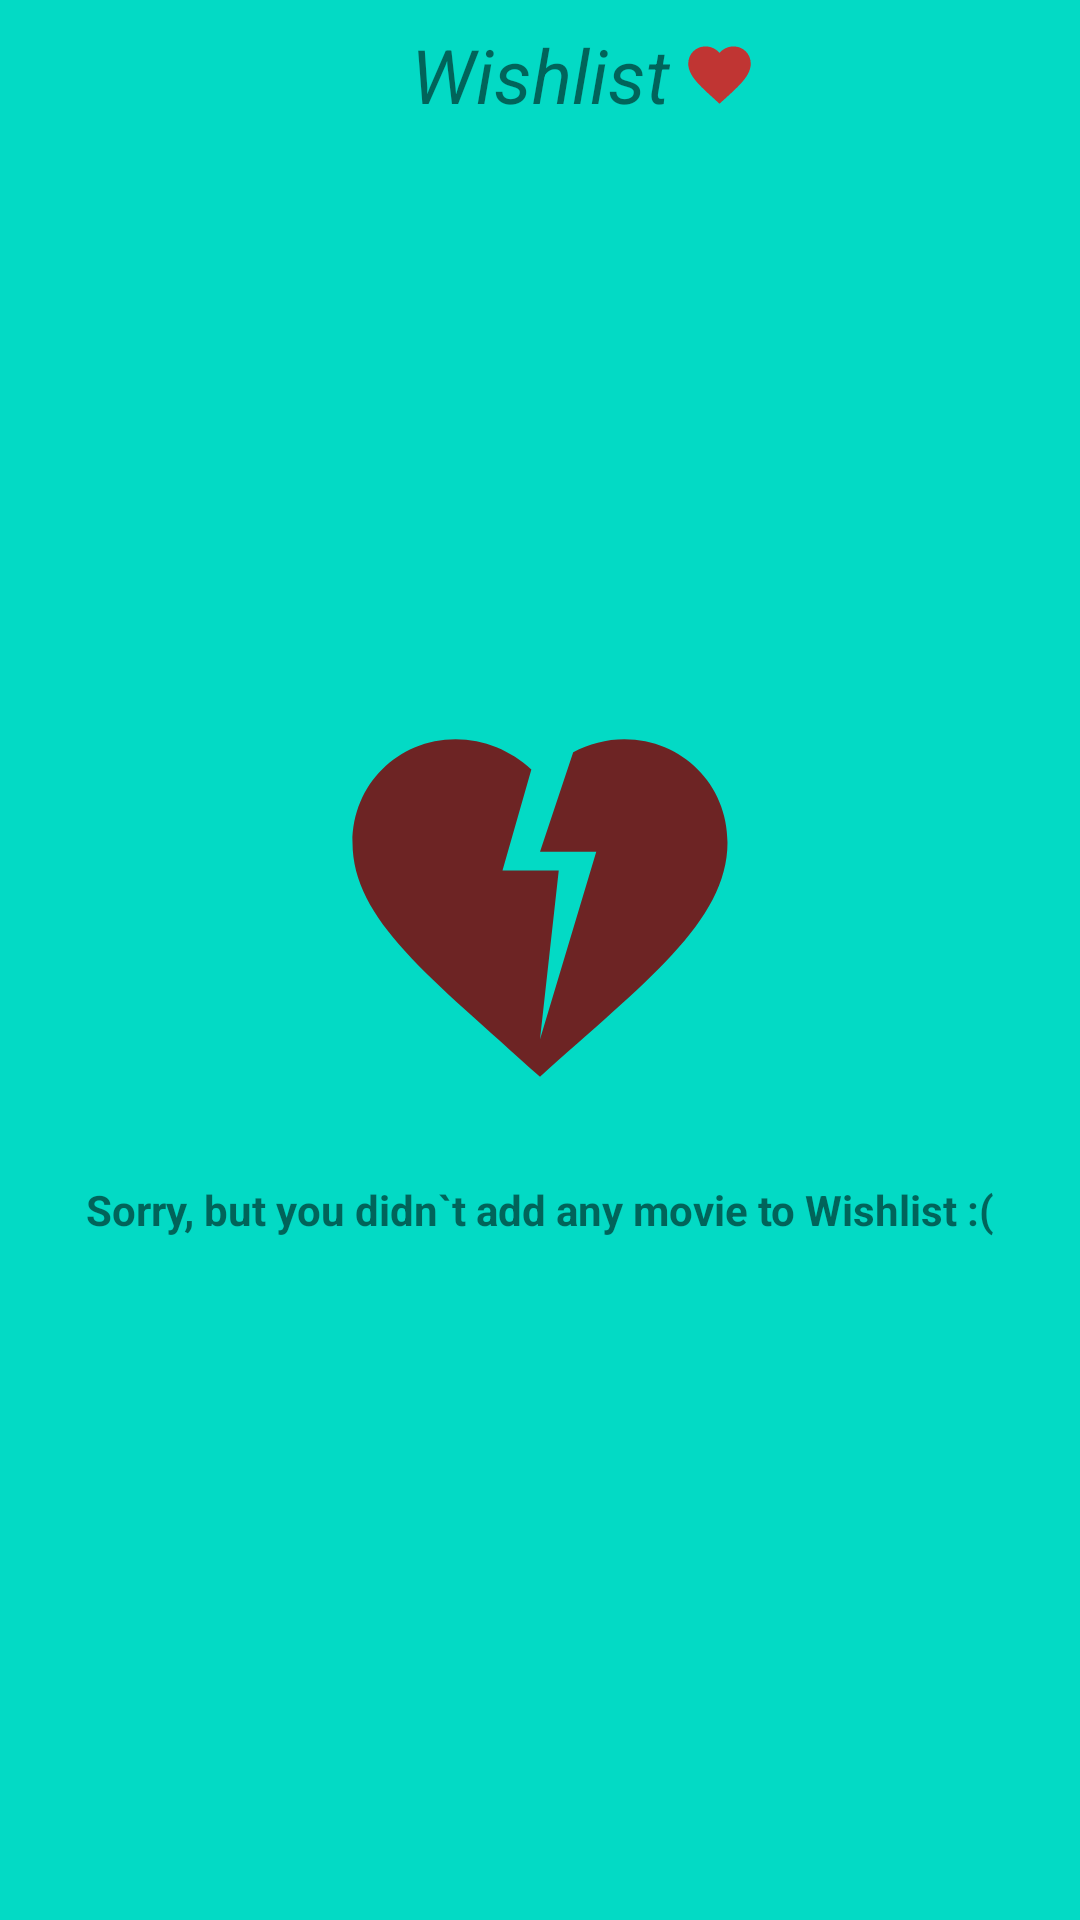

Icon click points for this 1080x1920 phone screenshot, format [x,y]:
favorite: [719,75]
